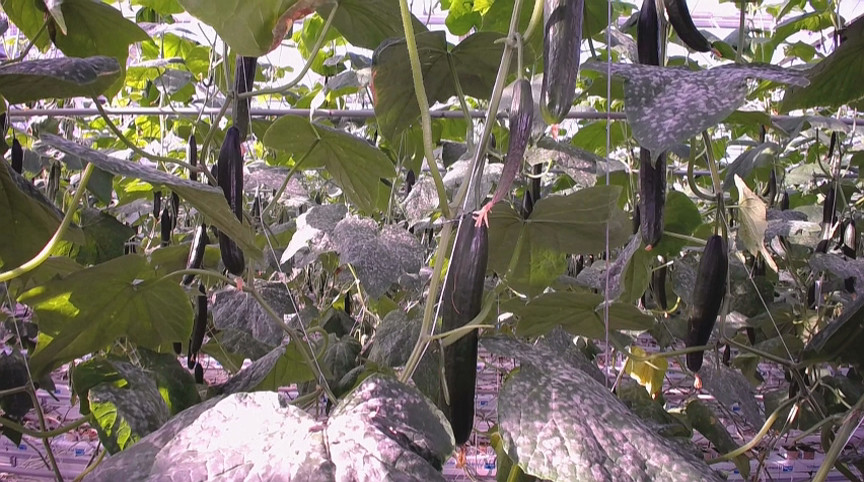cucumber: (441, 214, 486, 444), (539, 1, 585, 125), (492, 79, 535, 203), (686, 237, 725, 373), (216, 130, 246, 281), (639, 144, 665, 247), (663, 1, 711, 53), (235, 55, 257, 142), (180, 224, 207, 285), (637, 1, 661, 67), (191, 286, 208, 351), (185, 136, 199, 183), (10, 138, 22, 175)
